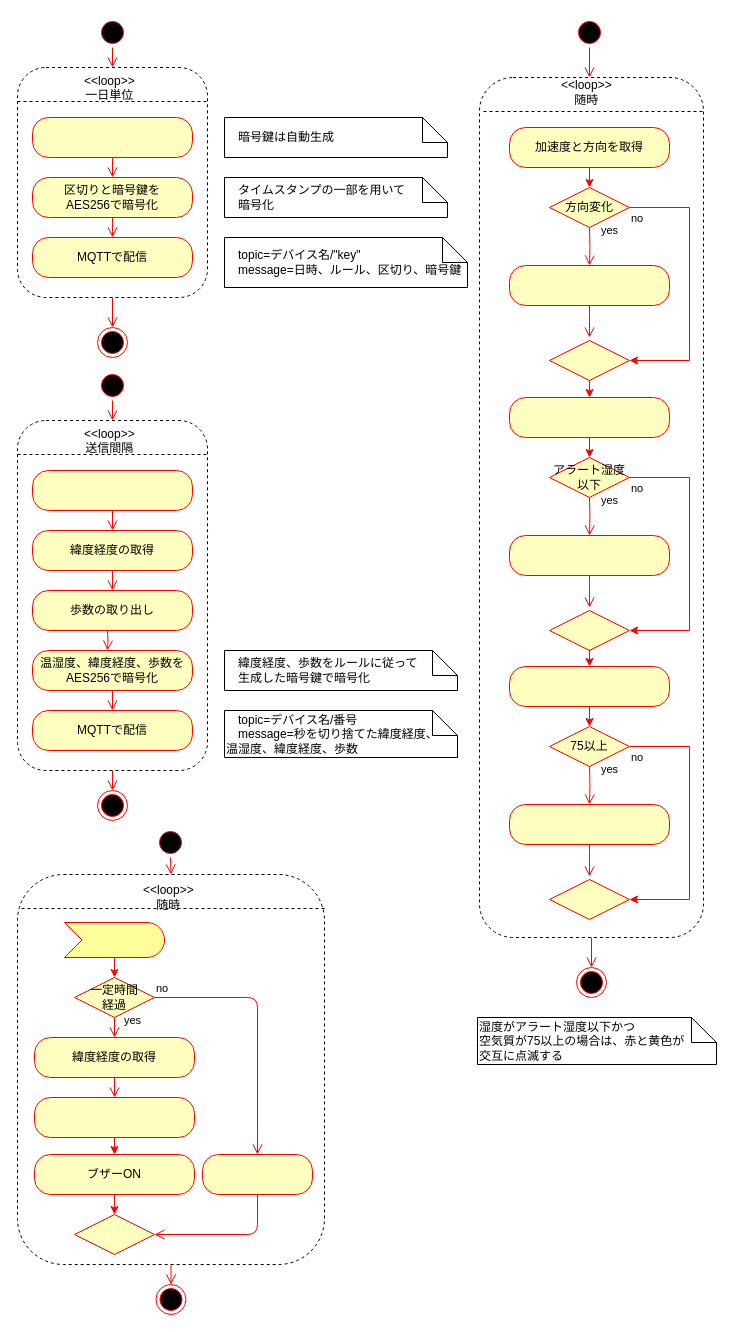
This 734x1332 diagram has some shape labels left out. Here are the shapes that lost their labels. From the top down, the centre of each, then its label:
At (112,137): "暗号鍵を生成".
At (589,285): "歩数を加算".
At (589,417): "湿度を取得".
At (112,490): "温湿度の取得".
At (589,555): "LEDを赤色の点灯にする".
At (589,686): "空気質を取得".
At (589,824): "LEDを黄色の点滅を入れる".
At (114,940): "ボタン押下".
At (114,1117): "緊急通知をMQTTで配信".
At (257,1174): "ブザーOFF".
